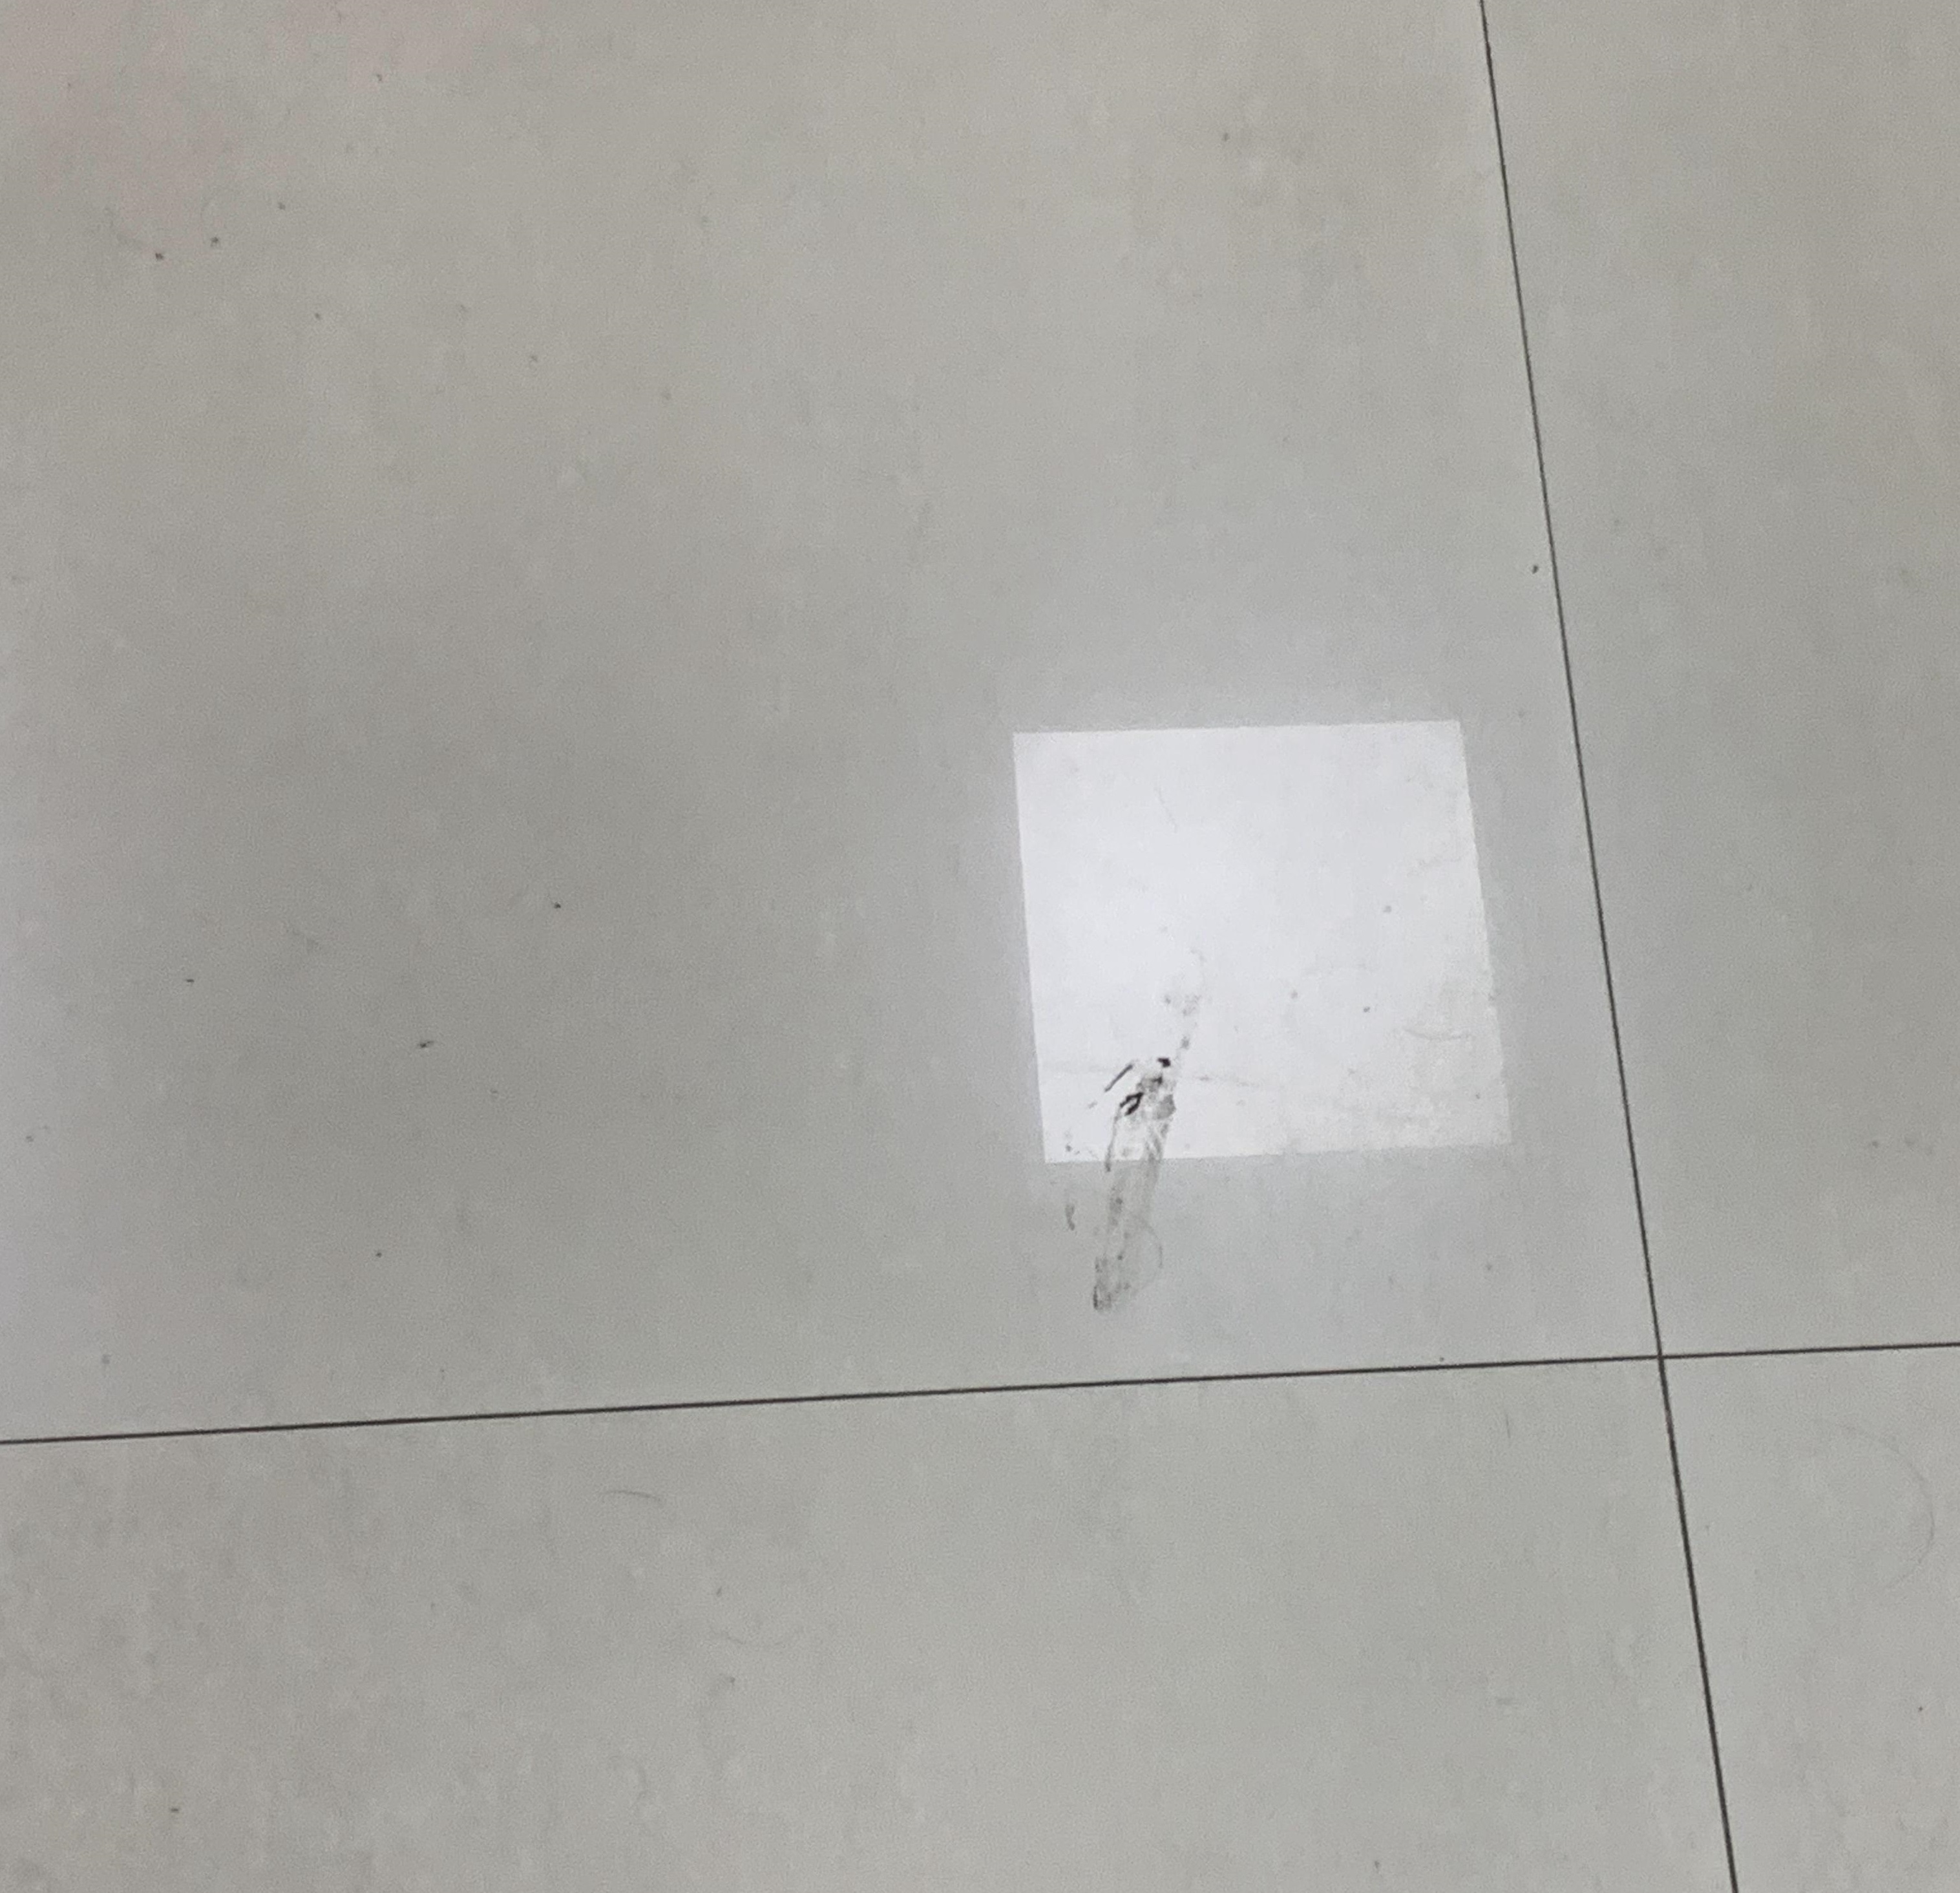grey spot: (1092, 1057, 1176, 1312)
reflection: (1013, 719, 1517, 1167)
